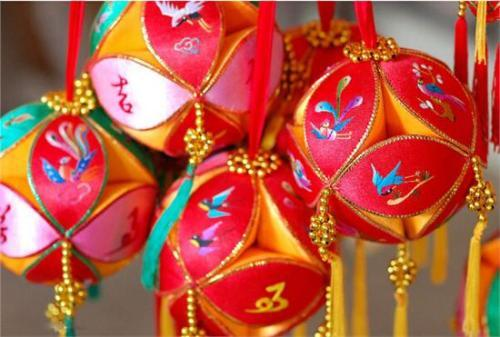xiuqiu: (288, 49, 481, 245), (152, 153, 344, 337)
